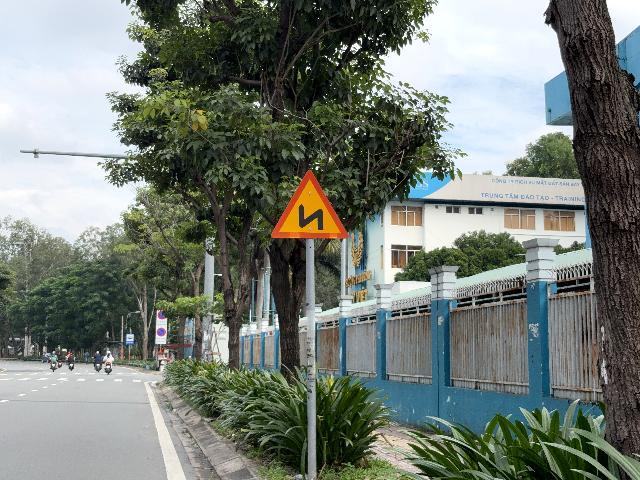nhieu-cho-ngoat-nguy-hiem-lien-tiep: (271, 170, 349, 239)
